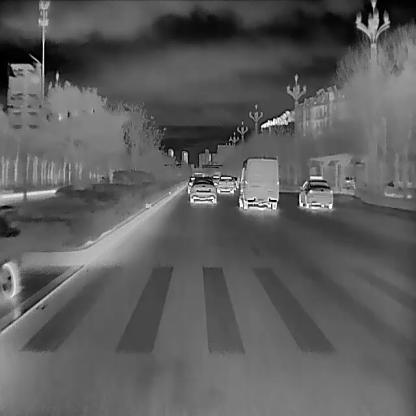car: (239, 156, 278, 210), (298, 176, 332, 210), (189, 177, 217, 203), (216, 175, 235, 193)
